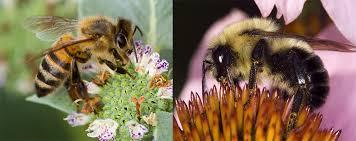Apis-mellifera-scutellata: (25, 9, 148, 104)
Xylocopa: (181, 5, 344, 124)
